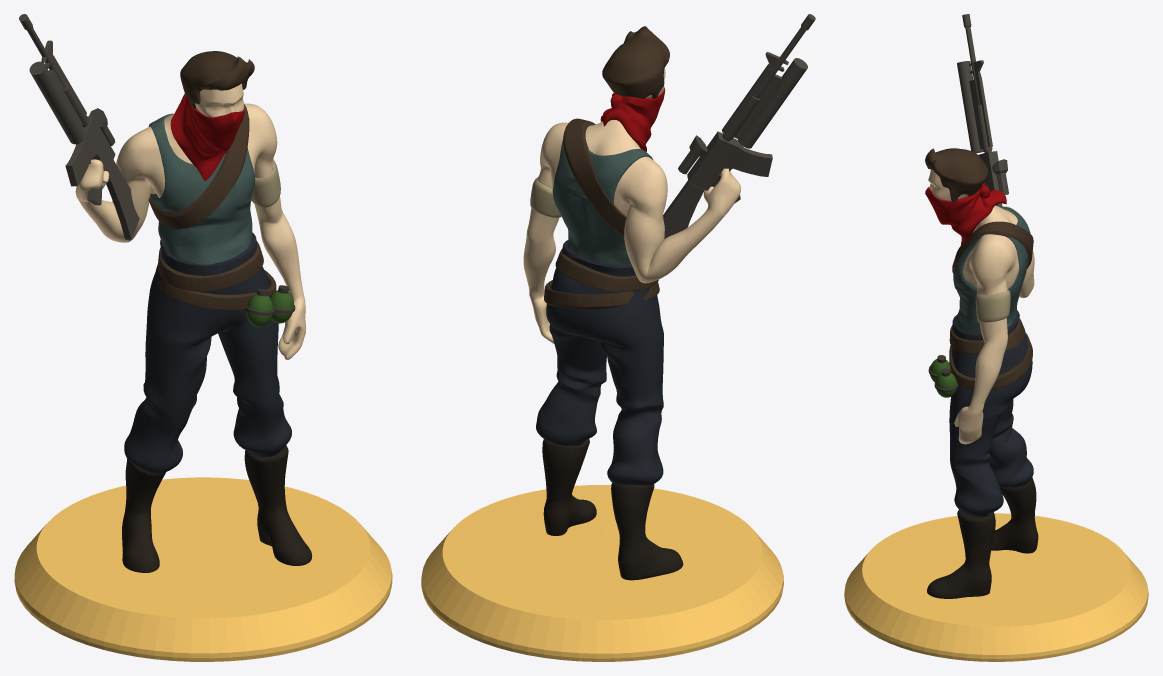
Rendered from Ch_Man_03.fbx.
3 renders of one model, left to right at view 1: azimuth 30°, elevation 25°; view 2: azimuth 150°, elevation 25°; view 3: azimuth 270°, elevation 25°, orthographic. The views are drawn at different scales.
Visible parts, largest first — view 1: Ch_Man_03; view 2: Ch_Man_03; view 3: Ch_Man_03.
Boxes of the visible parts, x1,y1,x2,y2 form: Ch_Man_03: (14,14,392,661); Ch_Man_03: (421,14,815,661); Ch_Man_03: (844,14,1148,661).
Bounding box in the file's own units: 120 × 198 × 108.
